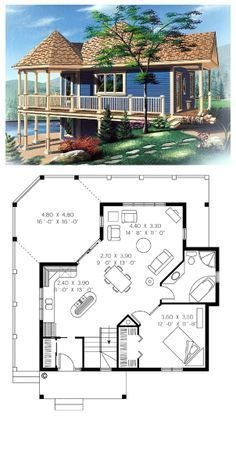door: (131, 306, 160, 327), (55, 349, 80, 371), (159, 282, 185, 303)
room: (101, 207, 185, 302), (40, 266, 119, 340), (117, 328, 208, 366), (183, 250, 219, 307), (39, 337, 86, 372), (103, 240, 118, 349)
wall: (202, 304, 214, 375), (34, 321, 45, 373), (180, 243, 222, 255), (112, 365, 163, 374), (182, 364, 211, 375), (35, 261, 46, 289), (166, 200, 191, 212), (37, 362, 58, 376), (80, 362, 100, 376), (179, 197, 188, 228), (213, 277, 222, 306), (214, 241, 222, 273), (100, 199, 123, 210), (39, 261, 80, 267), (93, 200, 108, 216), (97, 227, 107, 240)
window: (35, 287, 53, 323), (122, 199, 168, 212), (158, 357, 182, 377), (177, 226, 192, 243), (213, 268, 225, 283), (94, 215, 108, 227), (97, 365, 115, 374)
